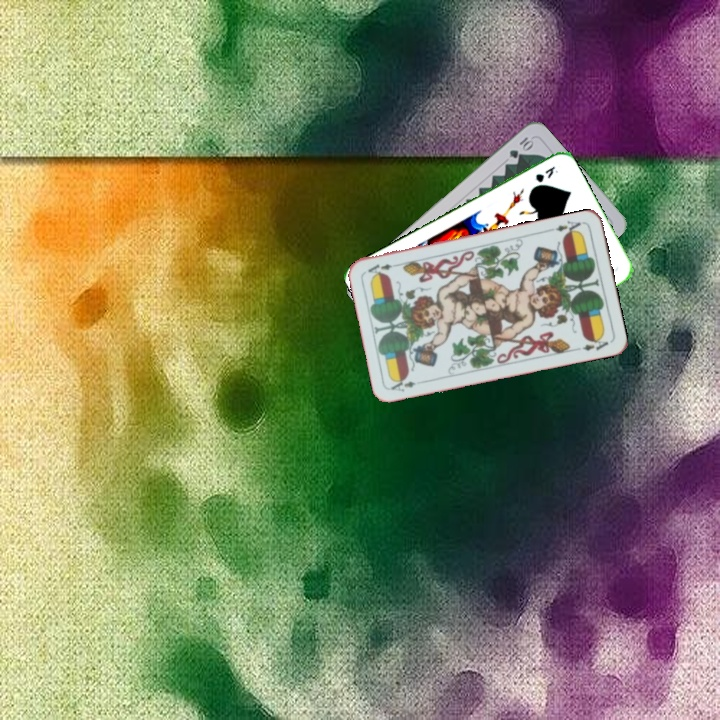EA: (387, 374, 427, 395), (546, 217, 583, 238)
G10: (505, 133, 536, 161)
GK: (531, 162, 560, 185)
